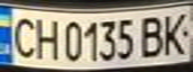0: (60, 18, 84, 62)
1: (81, 18, 100, 62)
3: (96, 17, 121, 62)
5: (115, 16, 142, 61)
B: (136, 12, 169, 59)
C: (6, 13, 39, 60)
H: (30, 15, 60, 61)
K: (157, 9, 193, 56)
